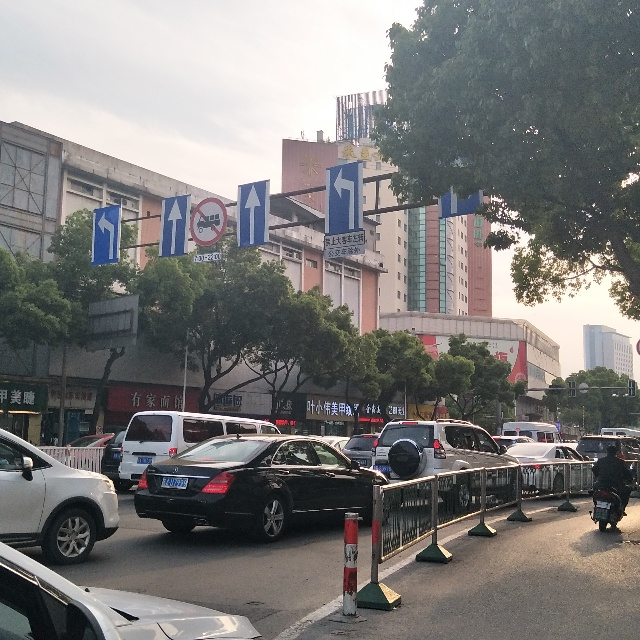left: (331, 167, 359, 227), (94, 210, 123, 259)
straight: (237, 184, 267, 244), (164, 197, 186, 253)
